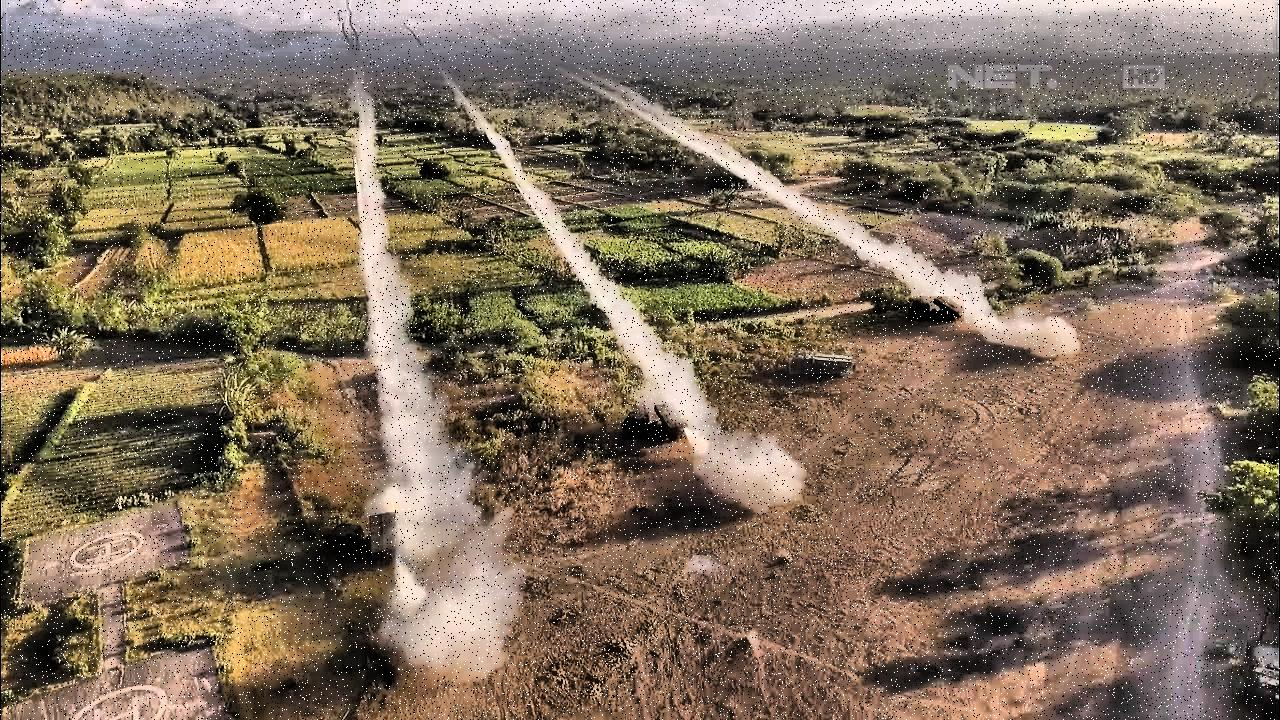military-vehicle: (622, 402, 688, 440), (789, 351, 853, 374), (908, 297, 964, 322)
